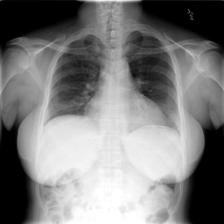normal: (40, 28, 186, 156)
